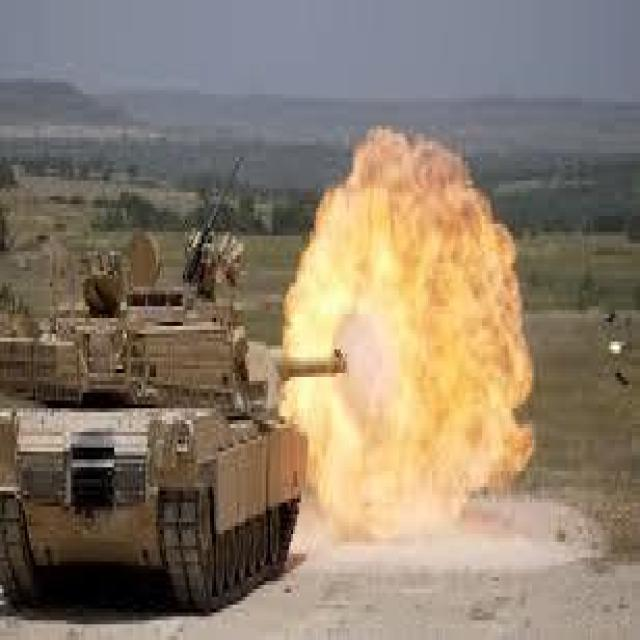Tanks: (1, 178, 377, 610)
